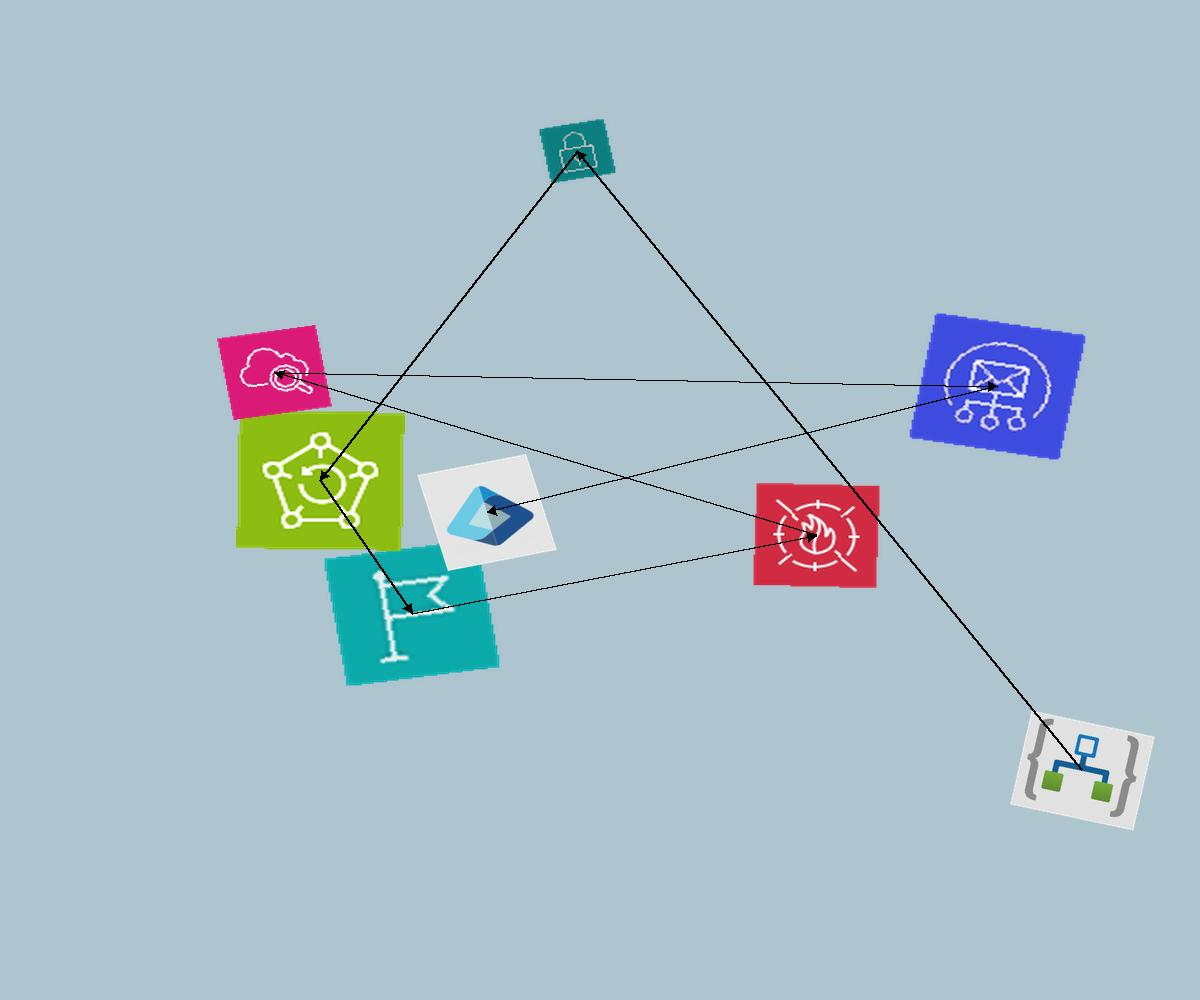AWS-Backup: (236, 410, 405, 551)
AWS-CloudWatch: (216, 324, 333, 421)
AWS-Private-subnet: (538, 118, 617, 184)
AWS-Region: (323, 539, 501, 687)
AWS-Simple-Email-Service: (908, 312, 1087, 461)
AWS-WAF: (752, 482, 881, 589)
Azure_integration-204-Logic-Apps: (1010, 710, 1155, 831)
Azure_microsoft_entra: (417, 454, 557, 571)
